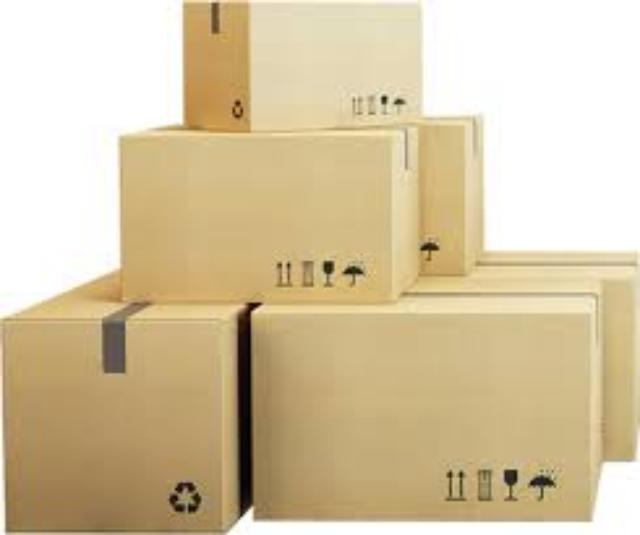cardboard paper: (251, 293, 596, 515), (1, 269, 253, 534), (120, 125, 413, 295), (182, 2, 421, 134)
